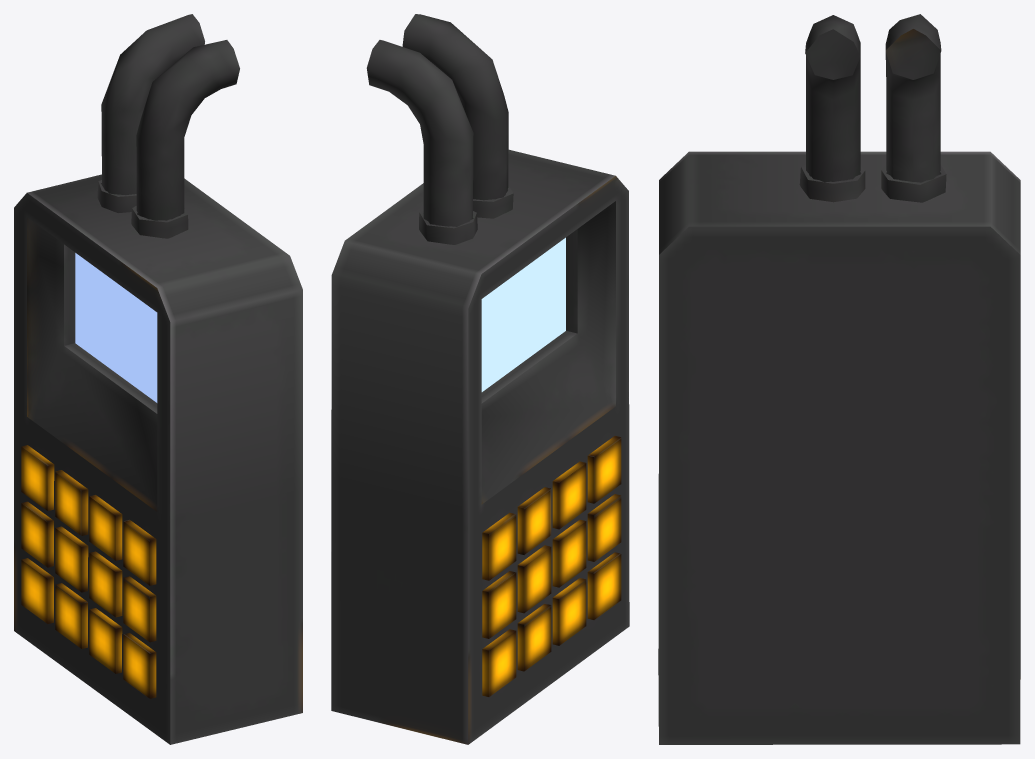
The model's file is SM_Terminal01.gltf.
3 renders of one model, left to right at view 1: azimuth 30°, elevation 25°; view 2: azimuth 150°, elevation 25°; view 3: azimuth 270°, elevation 25°, orthographic. The views are drawn at different scales.
Visible parts, largest first — view 1: SM_Terminal01; view 2: SM_Terminal01; view 3: SM_Terminal01.
Boxes of the visible parts, left/top/right/bottom form: SM_Terminal01: left=14, top=14, right=302, bottom=744; SM_Terminal01: left=331, top=14, right=629, bottom=744; SM_Terminal01: left=658, top=14, right=1020, bottom=744.
Size of the model in its own units: 0.0676 by 0.2844 by 0.1303.
1 material, 1 textured.
